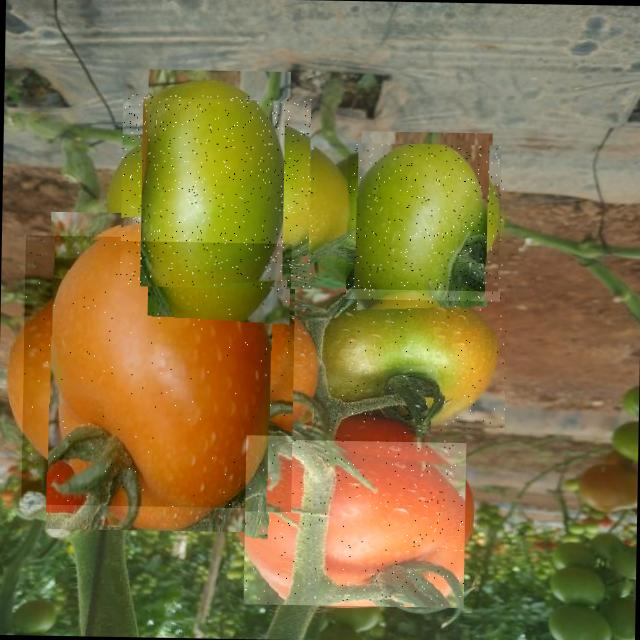Ripe Tomato: (21, 234, 296, 508), (243, 435, 466, 607)
Unripe Tomato: (120, 93, 315, 288), (328, 288, 507, 434), (346, 142, 504, 302)
